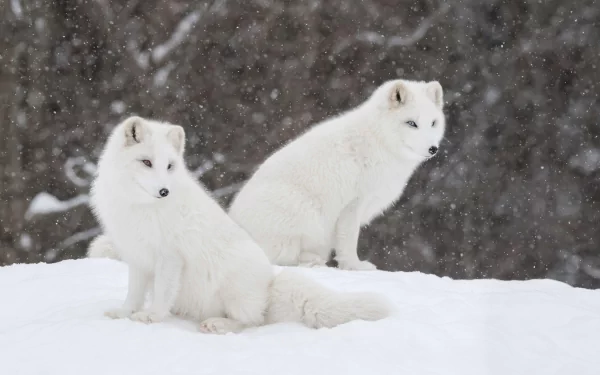arcticfox: (122, 140, 195, 217), (392, 96, 445, 174)
